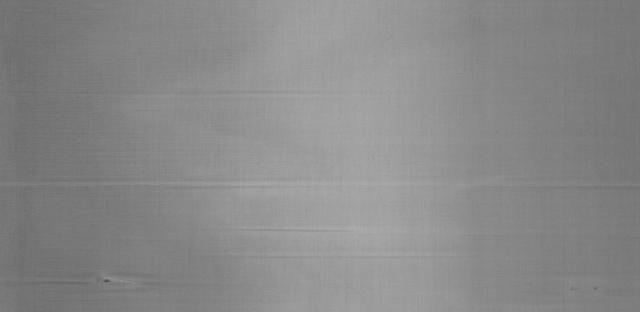rolled_pit: (84, 266, 144, 294)
